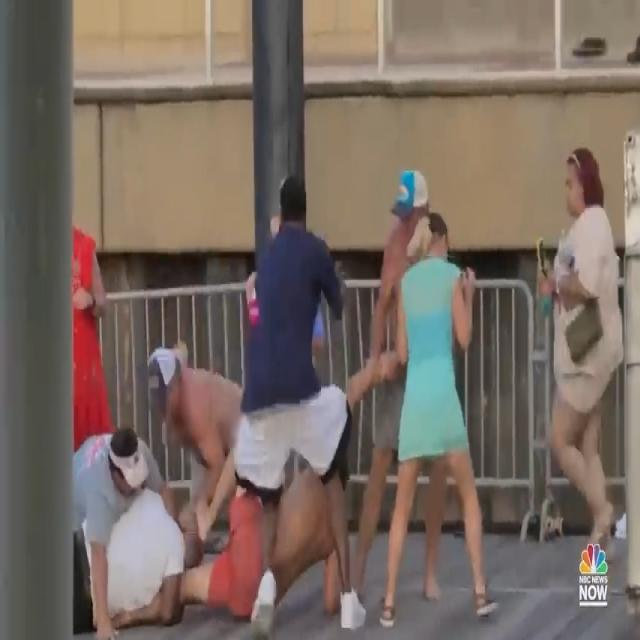fight: (72, 166, 497, 640)
